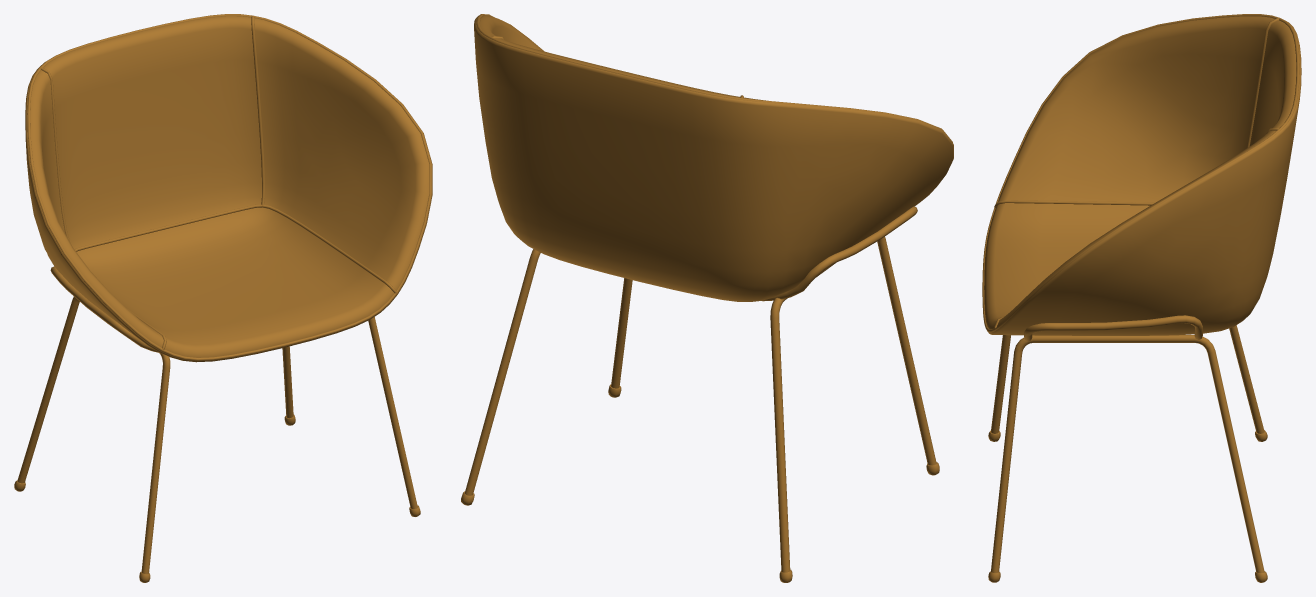
The model's file is Chair.fbx.
3 renders of one model, left to right at view 1: azimuth 30°, elevation 25°; view 2: azimuth 150°, elevation 25°; view 3: azimuth 270°, elevation 25°, orthographic. The views are drawn at different scales.
Parts seen in each view (by area): view 1: SM_Chair; view 2: SM_Chair; view 3: SM_Chair.
Part boxes in pixels (box(x1,y1,x2,y2)): SM_Chair: box(14, 14, 432, 582); SM_Chair: box(461, 14, 953, 582); SM_Chair: box(982, 14, 1301, 582).
Bounding box in the file's own units: 79.02 × 82.89 × 54.04.
